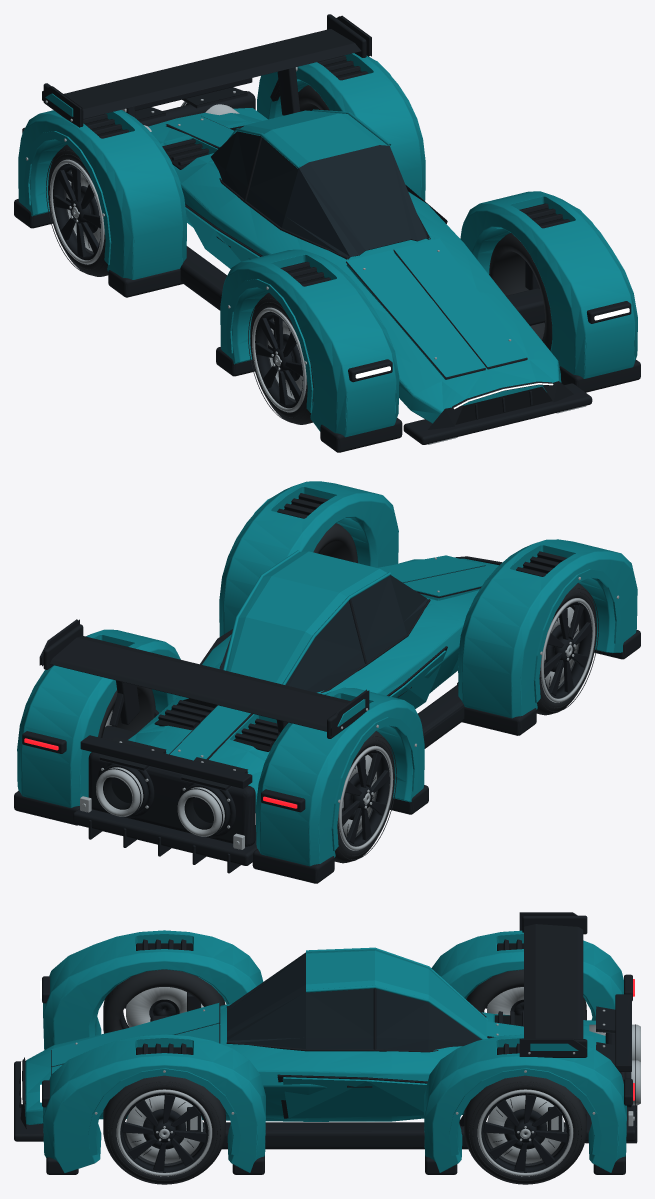
Rendered from stride.glb.
The picture shows the model from 3 angles, top to bottom: view 1: azimuth 30°, elevation 25°; view 2: azimuth 150°, elevation 25°; view 3: azimuth 270°, elevation 25°; orthographic projection. The views are drawn at different scales.
Visible parts, largest first — view 1: CanopyGlass, CentralSculptedBody, Fender_F_L, Fender_F_R, Fender_R_L, RearWing, Fender_R_R, HoodPlanarPanel_-1, HoodPlanarPanel_1, FrontSplitter, Tire_Wheel_FR, Spokes_Wheel_RL (+23 smaller); view 2: CanopyGlass, Fender_F_L, Fender_R_L, Fender_F_R, Fender_R_R, RearWing, CentralSculptedBody, RearExhaustPanel, RearDiffuser, RearBumperUpperRail, EngineServiceHatch, Spokes_Wheel_FL (+27 smaller); view 3: CanopyGlass, Fender_F_R, Fender_F_L, Fender_R_R, CentralSculptedBody, RearWing, Fender_R_L, SideArmorPanel_1, SideSill_1, Tire_Wheel_FR, Tire_Wheel_RR, Tire_Wheel_FL (+28 smaller).
Part boxes in pixels (x1=…): CanopyGlass: x1=211, y1=110, x2=429, y2=259; CentralSculptedBody: x1=148, y1=108, x2=561, y2=423; Fender_F_L: x1=220, y1=249, x2=399, y2=437; Fender_F_R: x1=460, y1=191, x2=637, y2=378; Fender_R_L: x1=18, y1=110, x2=186, y2=279; RearWing: x1=64, y1=29, x2=361, y2=118; Fender_R_R: x1=257, y1=53, x2=425, y2=200; HoodPlanarPanel_-1: x1=346, y1=250, x2=485, y2=379; HoodPlanarPanel_1: x1=394, y1=238, x2=526, y2=367; FrontSplitter: x1=403, y1=383, x2=592, y2=444; Tire_Wheel_FR: x1=489, y1=233, x2=552, y2=350; Spokes_Wheel_RL: x1=53, y1=166, x2=100, y2=257; CanopyGlass: x1=220, y1=551, x2=427, y2=692; Fender_F_L: x1=458, y1=539, x2=637, y2=718; Fender_R_L: x1=256, y1=687, x2=424, y2=866; Fender_F_R: x1=219, y1=481, x2=398, y2=636; Fender_R_R: x1=17, y1=629, x2=180, y2=807; RearWing: x1=50, y1=636, x2=350, y2=731; CentralSculptedBody: x1=128, y1=558, x2=498, y2=812; RearExhaustPanel: x1=88, y1=752, x2=255, y2=846; RearDiffuser: x1=73, y1=808, x2=257, y2=865; RearBumperUpperRail: x1=80, y1=735, x2=252, y2=788; EngineServiceHatch: x1=170, y1=705, x2=250, y2=760; Spokes_Wheel_FL: x1=544, y1=604, x2=591, y2=695; CanopyGlass: x1=227, y1=949, x2=487, y2=1050; Fender_F_R: x1=43, y1=1034, x2=265, y2=1172; Fender_F_L: x1=43, y1=930, x2=263, y2=1049; Fender_R_R: x1=424, y1=1034, x2=626, y2=1172; CentralSculptedBody: x1=25, y1=1003, x2=605, y2=1124; RearWing: x1=524, y1=924, x2=583, y2=1038; Fender_R_L: x1=431, y1=930, x2=623, y2=1020; SideArmorPanel_1: x1=282, y1=1077, x2=426, y2=1118; SideSill_1: x1=125, y1=1122, x2=566, y2=1149; Tire_Wheel_FR: x1=103, y1=1075, x2=225, y2=1184; Tire_Wheel_RR: x1=464, y1=1075, x2=586, y2=1184; Tire_Wheel_FL: x1=103, y1=969, x2=225, y2=1033.
Size of the model in its own units: 2.53 by 1.39 by 4.92.
